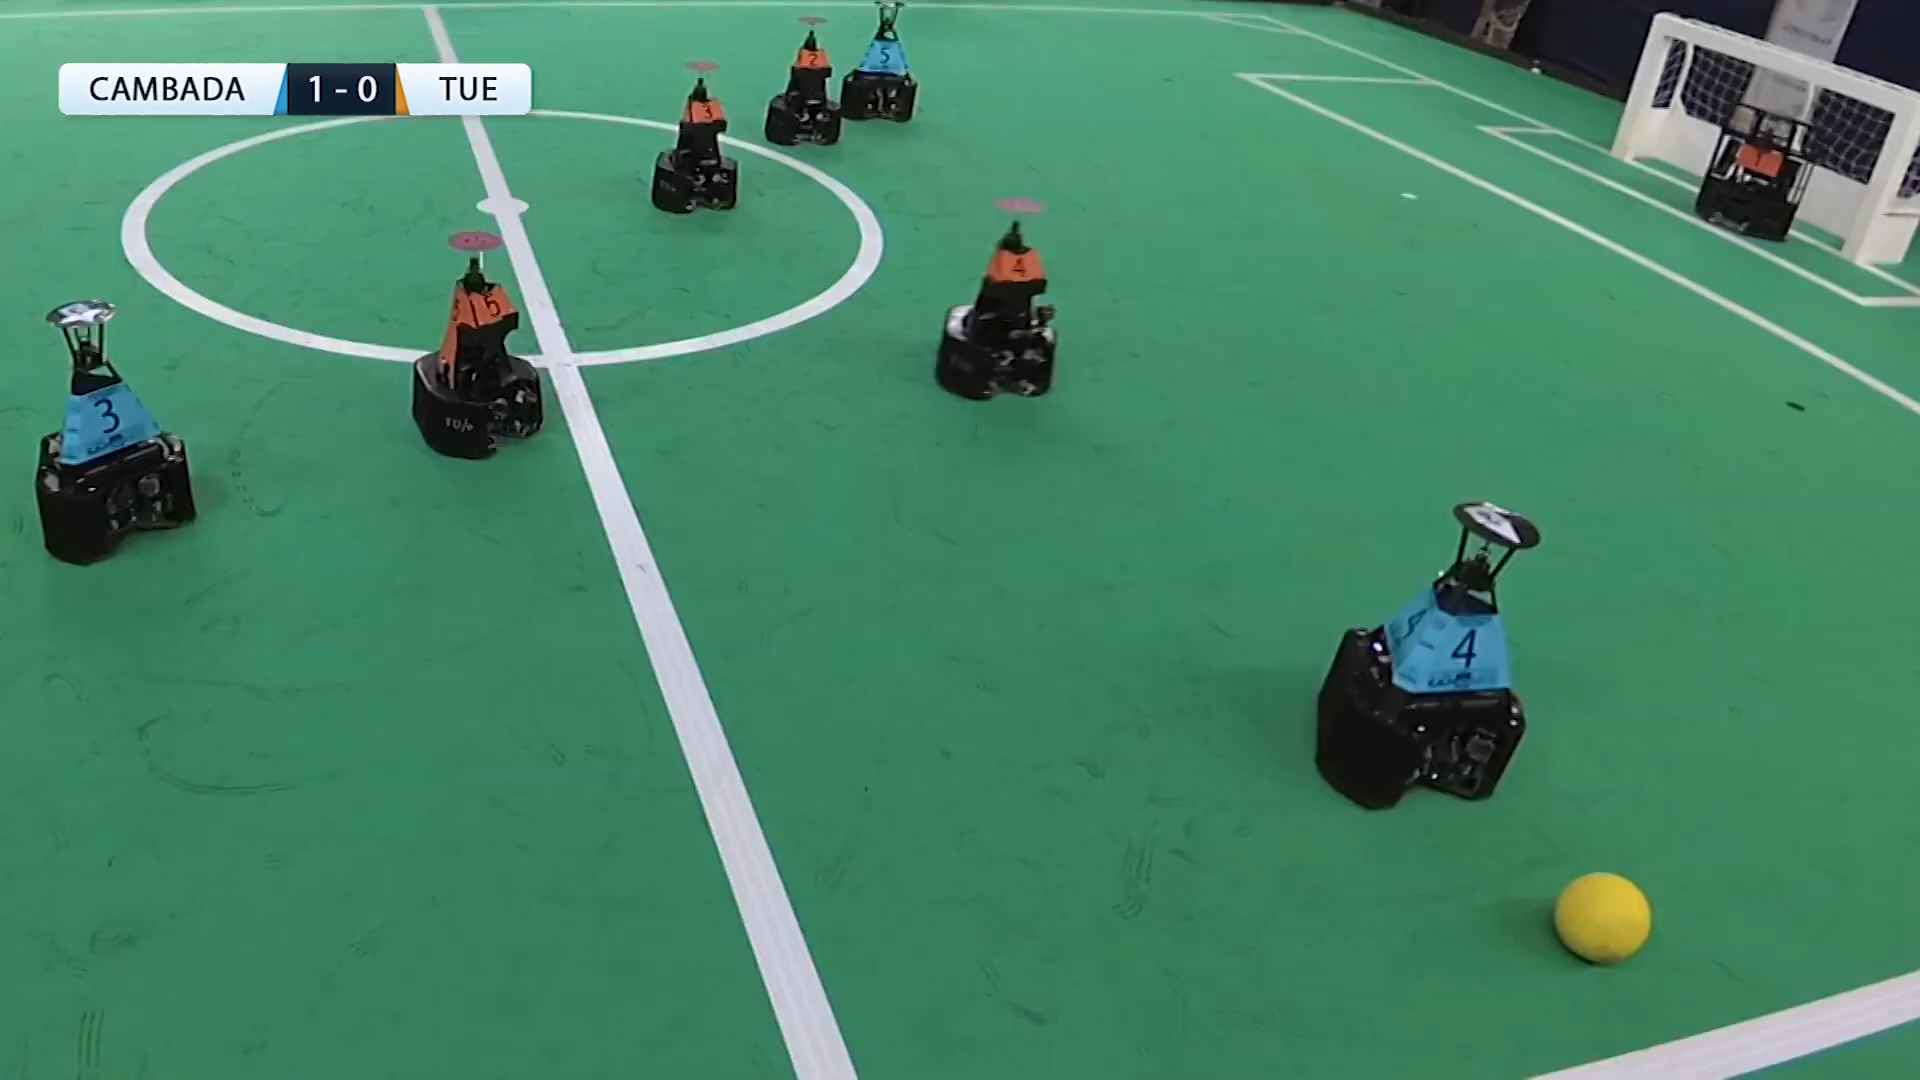BALL: (1552, 860, 1662, 972)
BLUE3: (22, 294, 191, 574)
BLUE4: (1300, 491, 1557, 819)
BLUE5: (843, 1, 926, 136)
RED2: (762, 8, 847, 154)
RED3: (629, 65, 756, 227)
RED4: (928, 175, 1069, 409)
R_Goalie: (1680, 113, 1825, 224)
